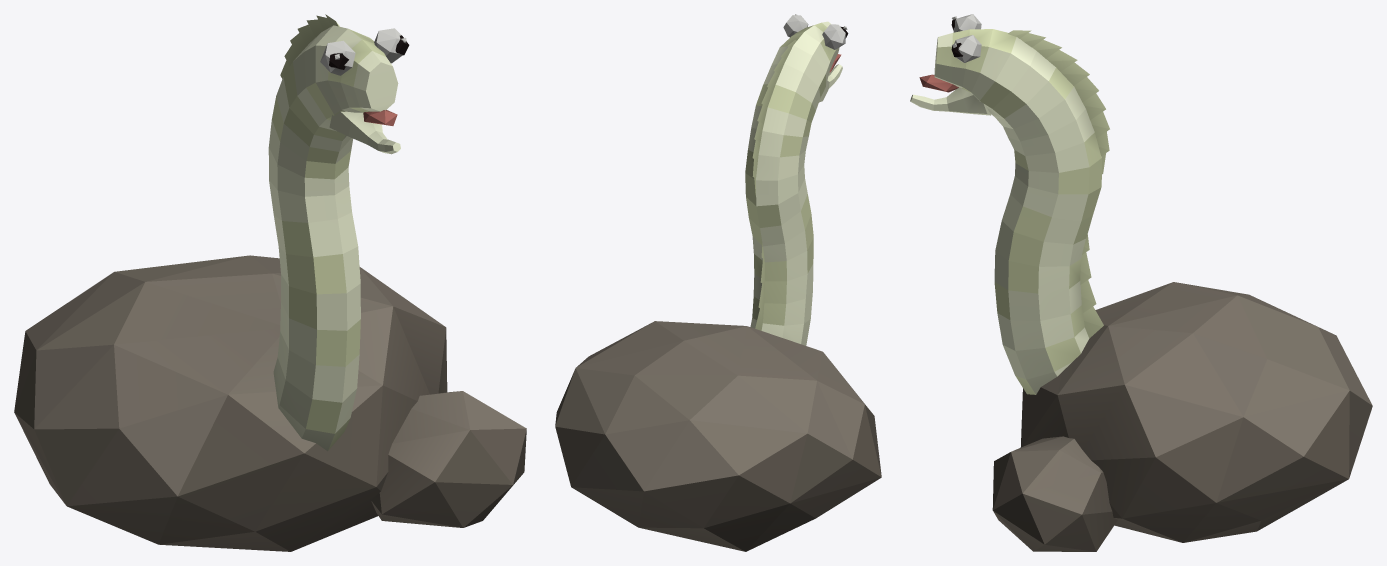
The model's file is eel.glb.
3 views of the same model, side by side, from view 1: azimuth 30°, elevation 25°; view 2: azimuth 150°, elevation 25°; view 3: azimuth 270°, elevation 25° (orthographic). The views are drawn at different scales.
Parts seen in each view (by area): view 1: base, eel_m; view 2: base, eel_m; view 3: base, eel_m.
Part boxes in pixels (box(x1,y1,x2,y2)): base: box(14, 255, 526, 551); eel_m: box(268, 14, 409, 451); base: box(555, 321, 881, 551); eel_m: box(745, 14, 848, 345); base: box(992, 282, 1372, 551); eel_m: box(910, 14, 1109, 394).
Size of the model in its own units: 0.1882 by 0.2618 by 0.2254.
